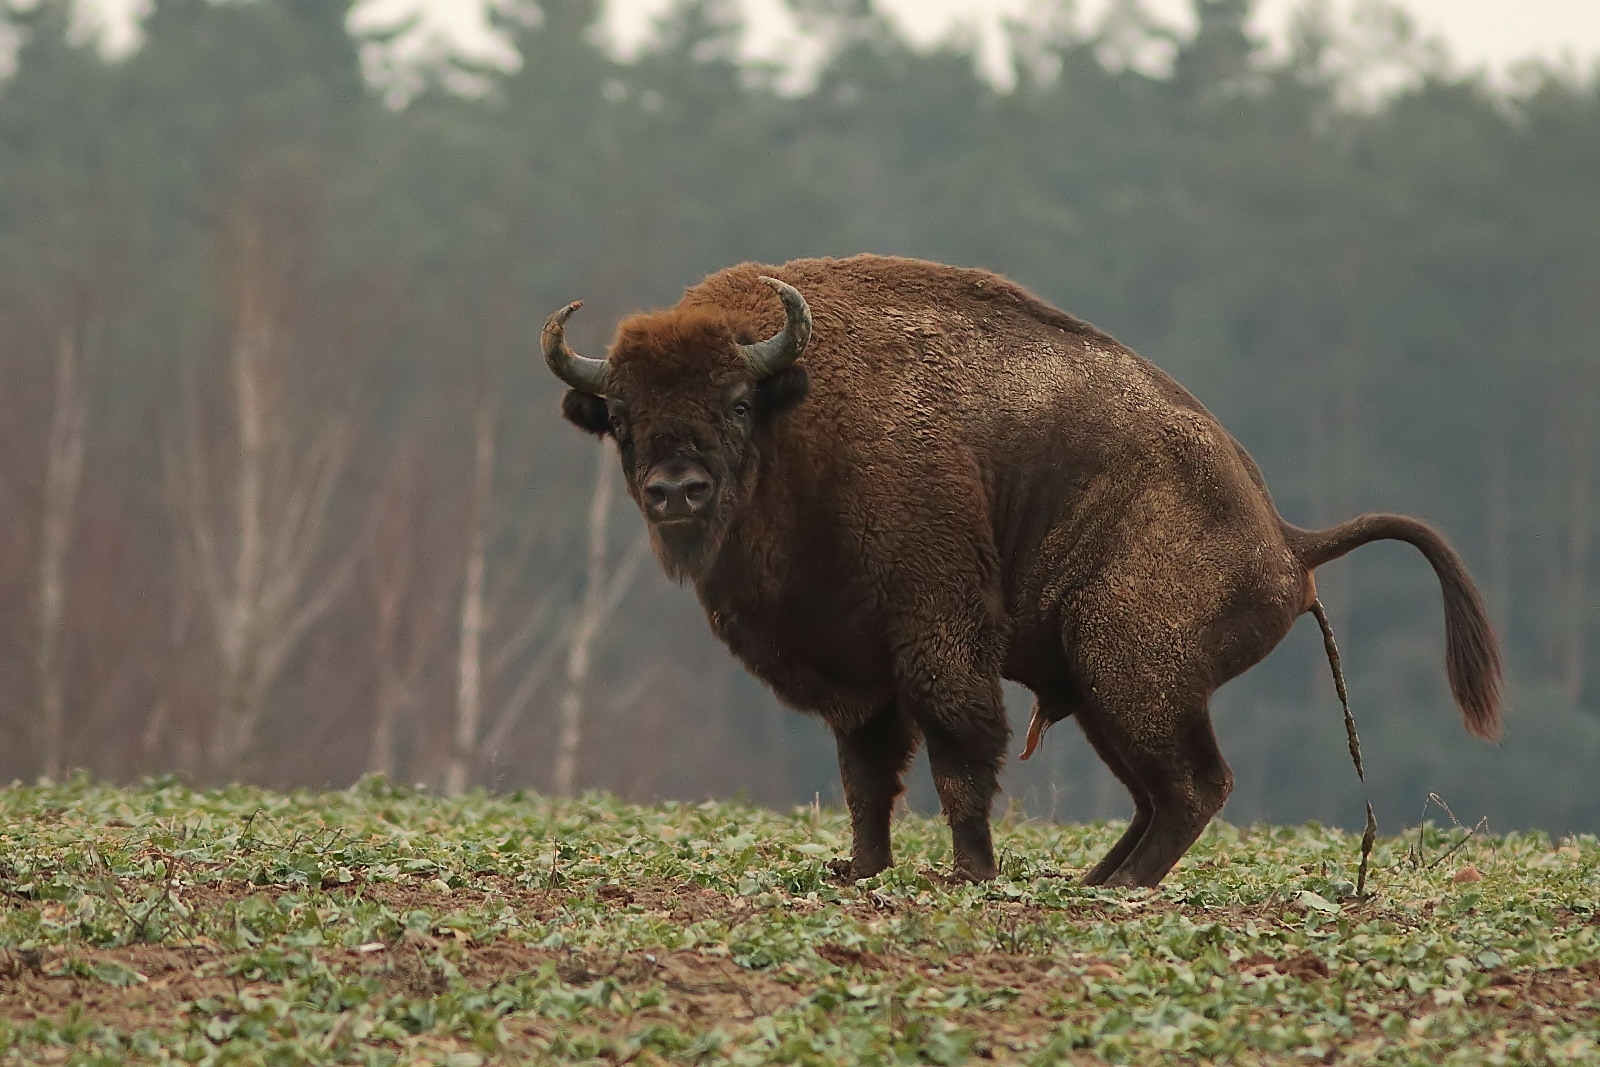zubr: (495, 152, 1546, 929)
